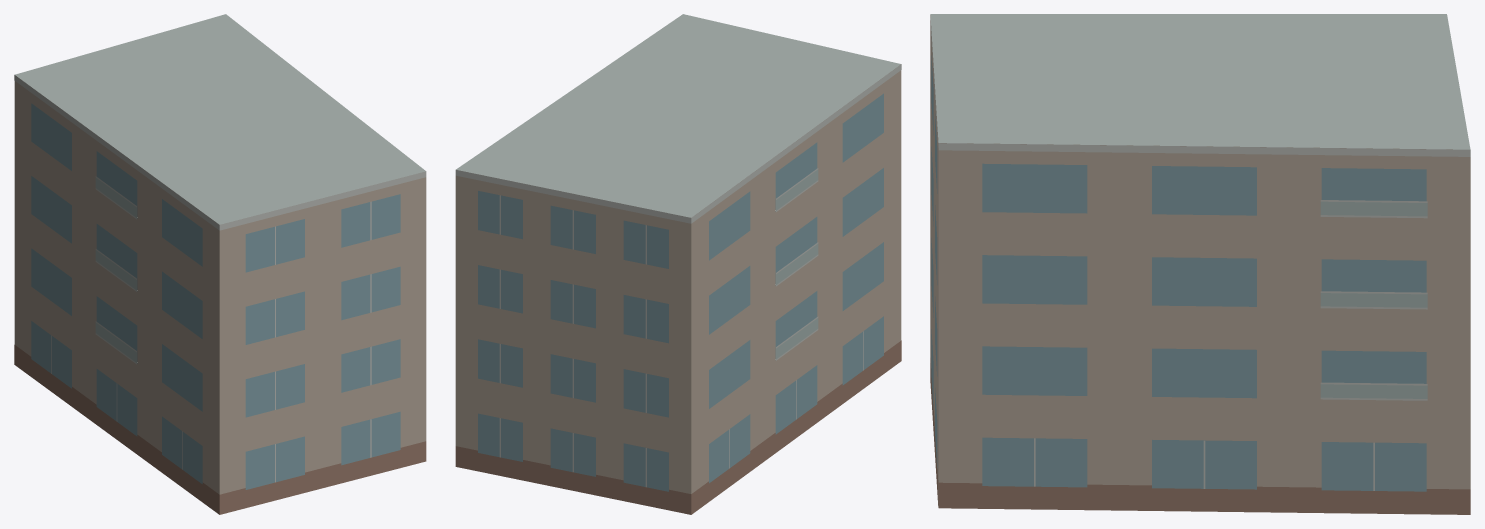
The model's file is residential-5f92ab8c-0fc3-4b36-a701-5435f0e59a24.glb.
The picture shows the model from 3 angles, left to right: view 1: azimuth 30°, elevation 25°; view 2: azimuth 150°, elevation 25°; view 3: azimuth 270°, elevation 25°; orthographic projection. The views are drawn at different scales.
Visible parts, largest first — view 1: residential-5f92ab8c-0fc3-4b36-a701-5435f0e59a24.tmp; view 2: residential-5f92ab8c-0fc3-4b36-a701-5435f0e59a24.tmp; view 3: residential-5f92ab8c-0fc3-4b36-a701-5435f0e59a24.tmp.
Boxes of the visible parts, x1,y1,x2,y2 form: residential-5f92ab8c-0fc3-4b36-a701-5435f0e59a24.tmp: (14,14,426,514); residential-5f92ab8c-0fc3-4b36-a701-5435f0e59a24.tmp: (455,14,901,514); residential-5f92ab8c-0fc3-4b36-a701-5435f0e59a24.tmp: (930,14,1470,514).
Size of the model in its own units: 9.76 by 12.2 by 16.36.
